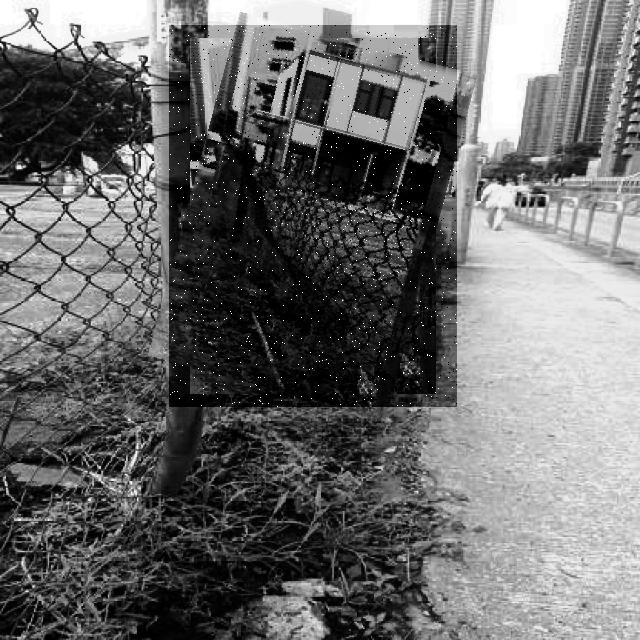anomaly-fence: (169, 25, 457, 407)
